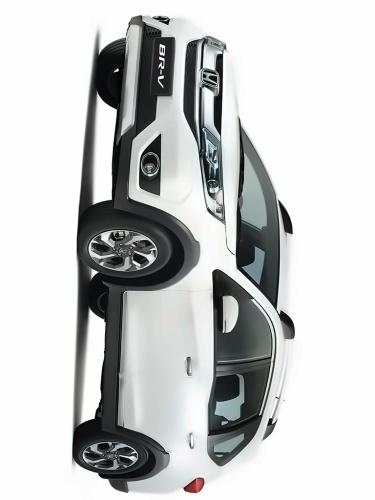Car hood: (214, 38, 246, 267)
Fender - -F-L-: (155, 201, 209, 296)
Fender - -R-L-: (145, 428, 176, 487)
Front bumper: (112, 11, 199, 248)
Headlight - -L-: (198, 123, 226, 228)
Headlight - -R-: (201, 31, 230, 54)
Passenger-s door - -F-L-: (123, 271, 284, 382)
Passenger-s door - -R-L-: (103, 355, 282, 439)
Rear bumper: (110, 469, 184, 499)
Rear light - -L-: (176, 472, 207, 496)
Side bumper - -L-: (96, 276, 142, 436)
Side mirror - -L-: (214, 289, 244, 334)
